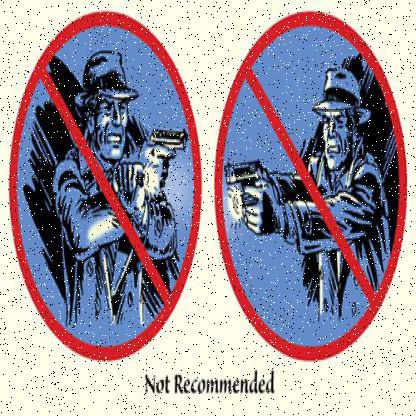pistol: (220, 159, 282, 230), (142, 121, 188, 215)
